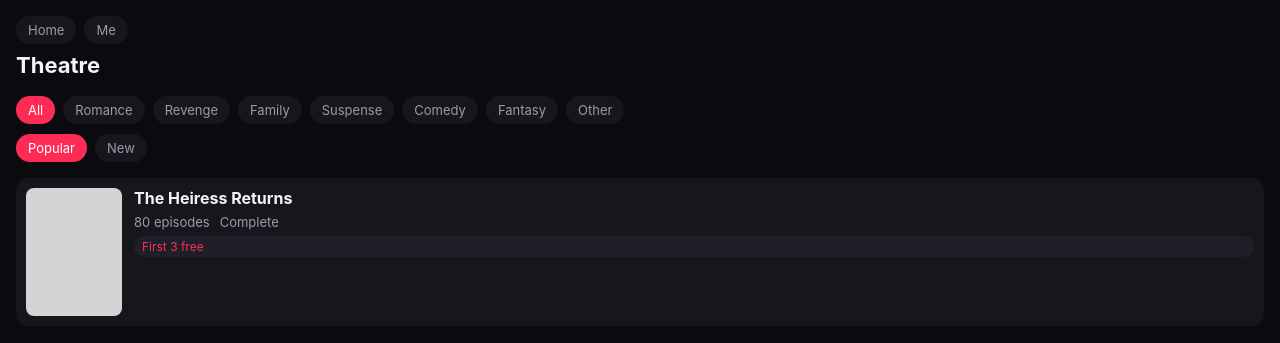
Test: the browse grid › sends NEW when that sort is selected
Expected: the list with test id "browse-list" is shown, [16,178,1264,326]
What coordinates should you click on to do the following:
click the button with test id "browse-sort-NEW"
I would click on:
 (121, 148)
Its box is [95,134,147,162].
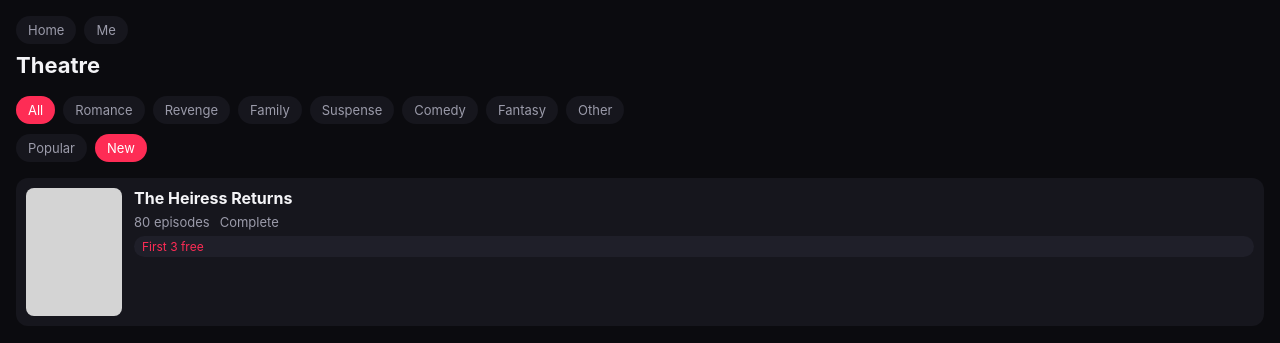
Expected: the element with test id "browse-page" has attribute data-sort="NEW"
